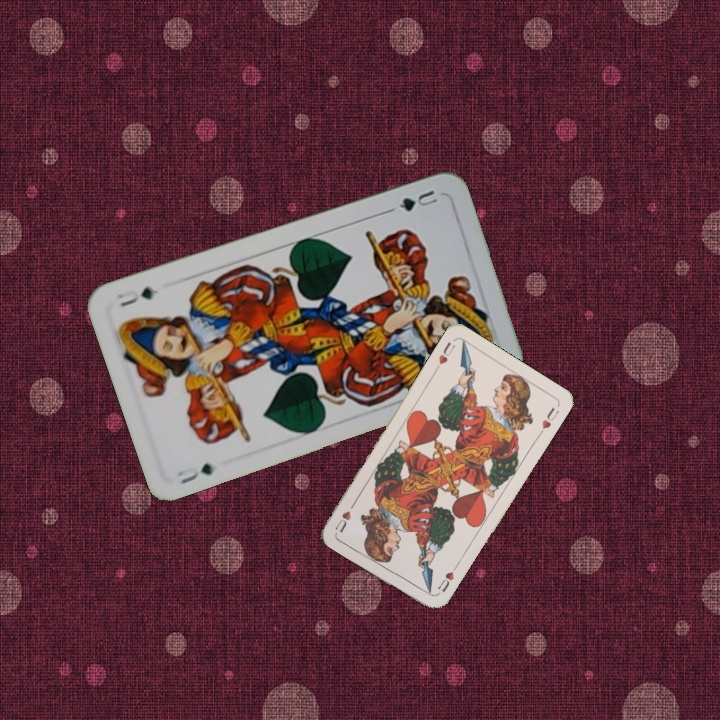GU: (394, 185, 441, 214), (173, 459, 217, 487)
HU: (431, 338, 457, 373), (434, 561, 460, 595)
